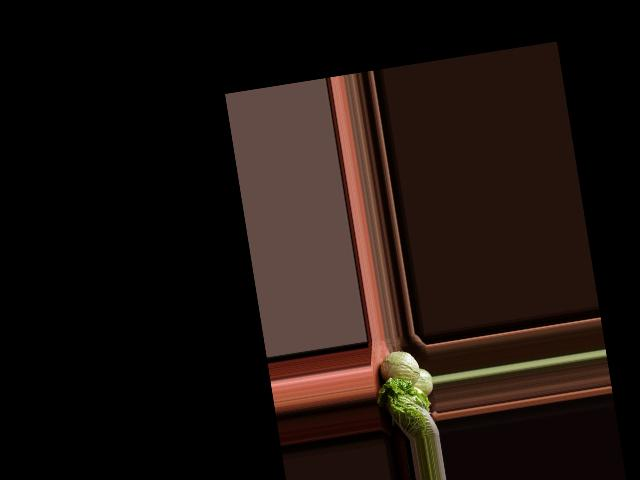lettuce: (372, 372, 437, 443)
